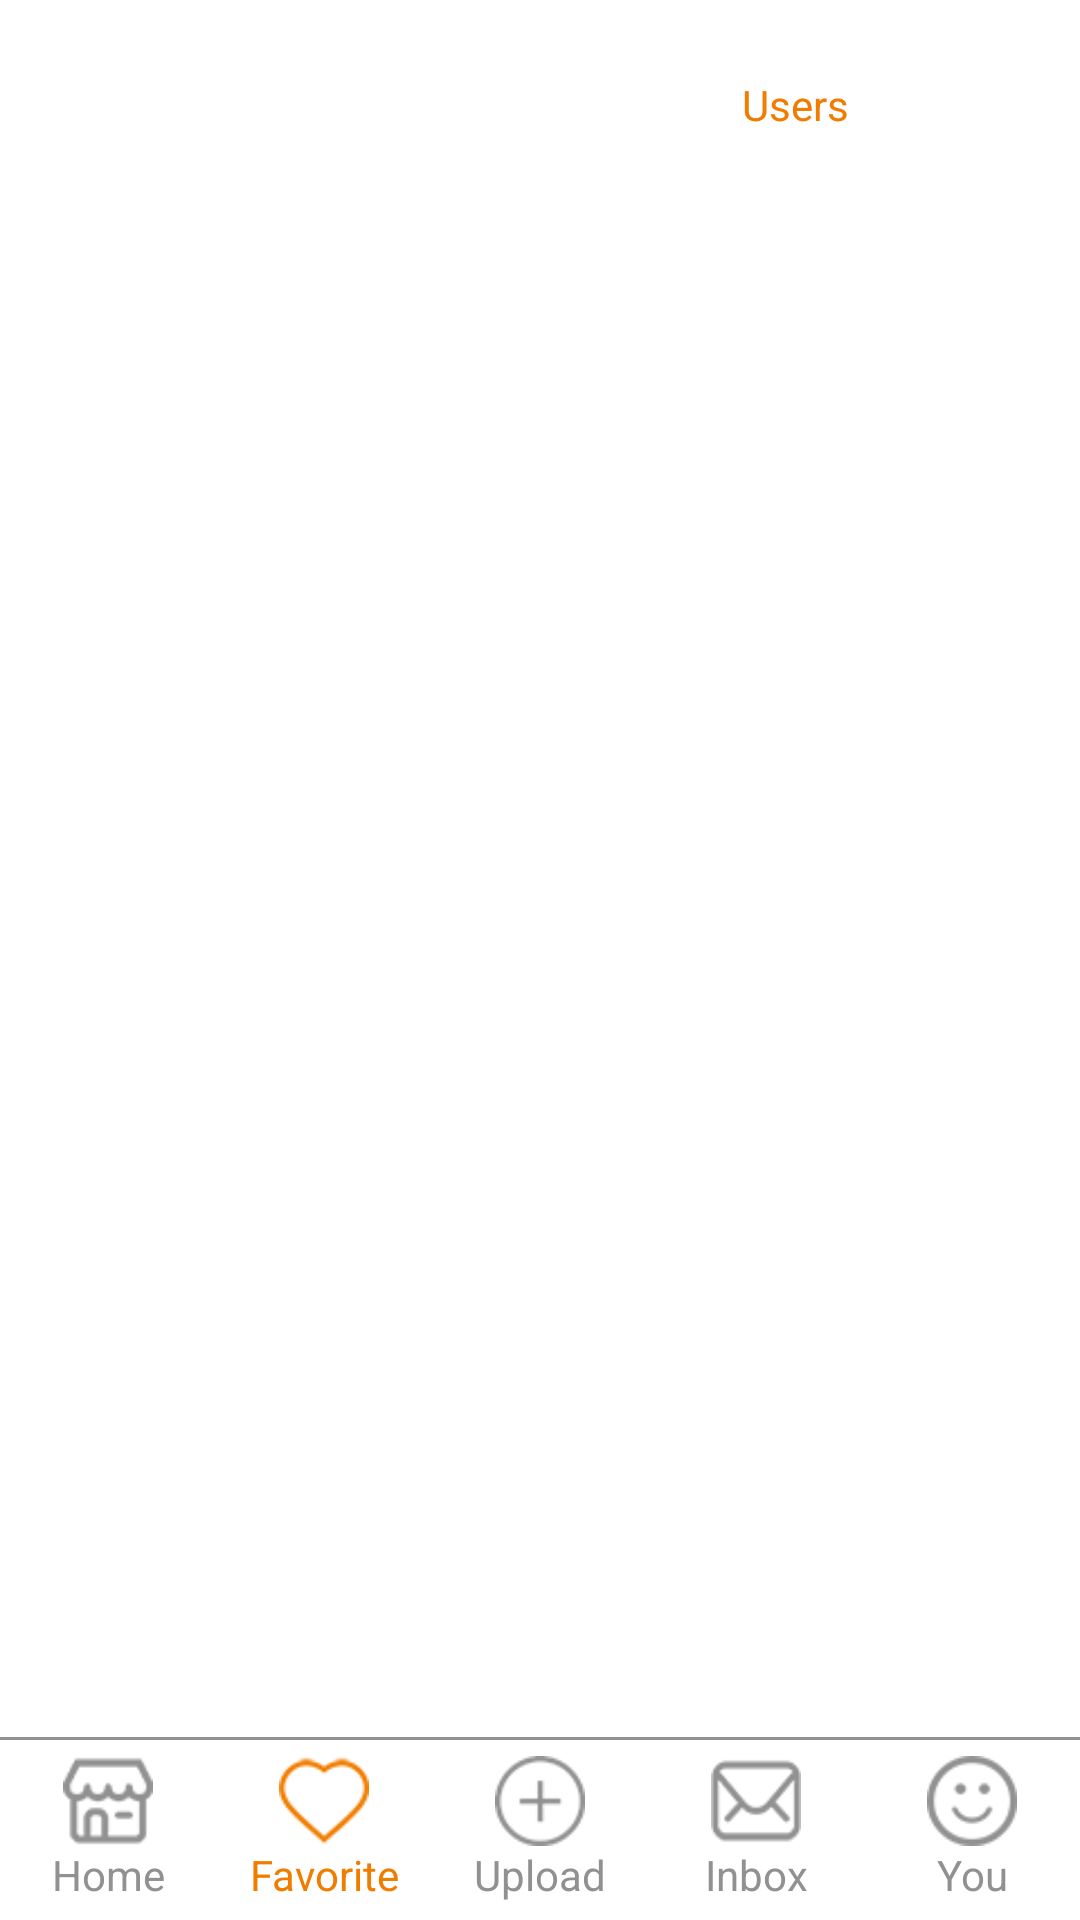

Screen size 1080px×1920px. Icon name, then its box in pixels as (x1, y1, x2, y2):
add: (495, 1756, 585, 1846)
profile: (927, 1756, 1017, 1846)
